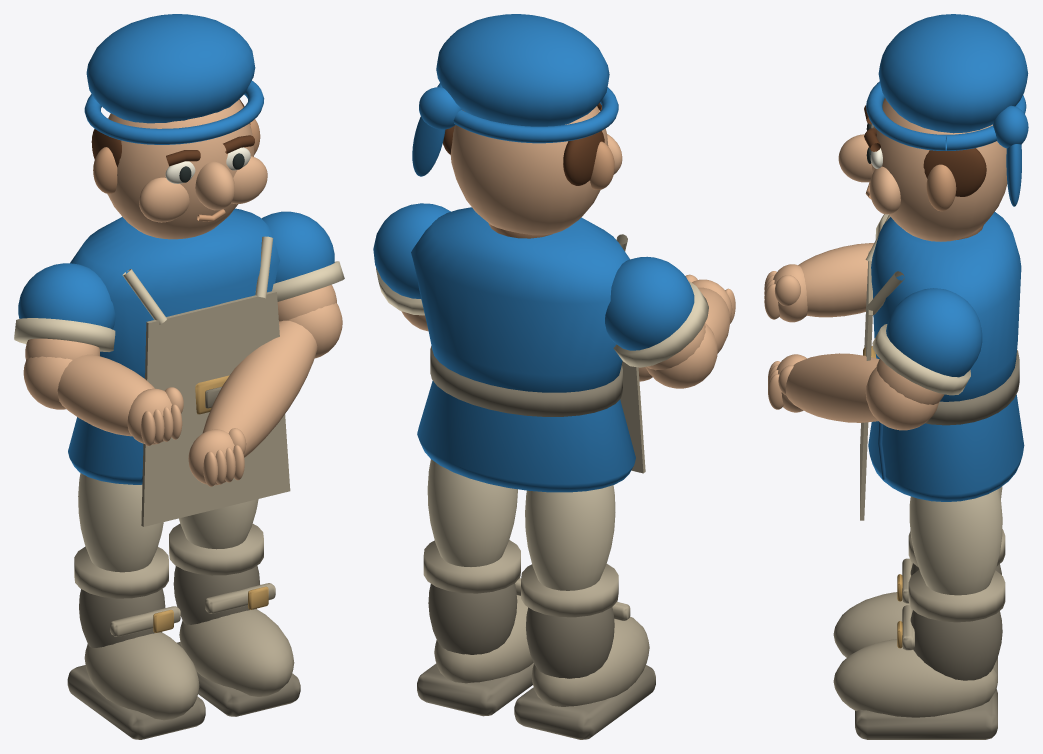
The model's file is tuinier_verzorgen.glb.
3 renders of one model, left to right at view 1: azimuth 30°, elevation 25°; view 2: azimuth 150°, elevation 25°; view 3: azimuth 270°, elevation 25°, orthographic. The views are drawn at different scales.
Parts seen in each view (by area): view 1: Felt_work_apron.001, Tunic_torso.006, TEAM_Wool_work_cap.001, Left_Forearm.006, Head.006, Boot_toe.012, Boot_toe.013, Trouser_leg.012, Right_Forearm.006, Right_Sleeve.006, Tunic_skirt.006, TEAM_Rolled_cap_rim.001 (+26 smaller); view 2: Tunic_torso.006, Tunic_skirt.006, TEAM_Wool_work_cap.001, Head.006, Trouser_leg.012, Trouser_leg.013, Right_Sleeve.006, Boot_shaft.013, Boot_shaft.012, Belt.006, Boot_toe.012, Boot_sole.012 (+16 smaller); view 3: TEAM_Wool_work_cap.001, Tunic_torso.006, Tunic_skirt.006, Boot_toe.013, Trouser_leg.013, Head.006, Left_Sleeve.006, Left_Forearm.006, Boot_shaft.013, Right_Forearm.006, Boot_sole.013, Boot_cuff.013 (+18 smaller).
Boxes of the visible parts, x1,y1,x2,y2 form: Felt_work_apron.001: (141, 290, 290, 526); Tunic_torso.006: (70, 208, 279, 378); TEAM_Wool_work_cap.001: (86, 14, 255, 123); Left_Forearm.006: (202, 320, 317, 457); Head.006: (107, 100, 254, 239); Boot_toe.012: (84, 632, 199, 720); Boot_toe.013: (179, 609, 294, 696); Trouser_leg.012: (78, 473, 163, 572); Right_Forearm.006: (57, 354, 154, 436); Right_Sleeve.006: (18, 263, 115, 329); Tunic_skirt.006: (68, 417, 143, 484); TEAM_Rolled_cap_rim.001: (84, 80, 264, 144); Tunic_torso.006: (411, 207, 629, 392); Tunic_skirt.006: (417, 380, 635, 492); TEAM_Wool_work_cap.001: (436, 14, 609, 126); Head.006: (450, 106, 608, 235); Trouser_leg.012: (525, 485, 615, 590); Trouser_leg.013: (427, 459, 517, 566); Right_Sleeve.006: (605, 256, 694, 350); Boot_shaft.013: (428, 583, 517, 654); Boot_shaft.012: (526, 607, 614, 678); Belt.006: (430, 346, 622, 416); Boot_toe.012: (531, 616, 649, 706); Boot_sole.012: (514, 665, 655, 739); TEAM_Wool_work_cap.001: (878, 14, 1028, 133); Tunic_torso.006: (871, 212, 1021, 401); Tunic_skirt.006: (868, 394, 1024, 501); Boot_toe.013: (833, 639, 997, 717); Trouser_leg.013: (909, 489, 1002, 595); Head.006: (871, 98, 1007, 241); Left_Sleeve.006: (886, 288, 982, 377); Left_Forearm.006: (785, 353, 879, 422); Boot_shaft.013: (910, 610, 1002, 680); Right_Forearm.006: (798, 243, 873, 317); Boot_sole.013: (855, 689, 997, 739); Boot_cuff.013: (908, 570, 1005, 622).
Bounding box in the file's own units: 1.03 × 2.08 × 0.738.
